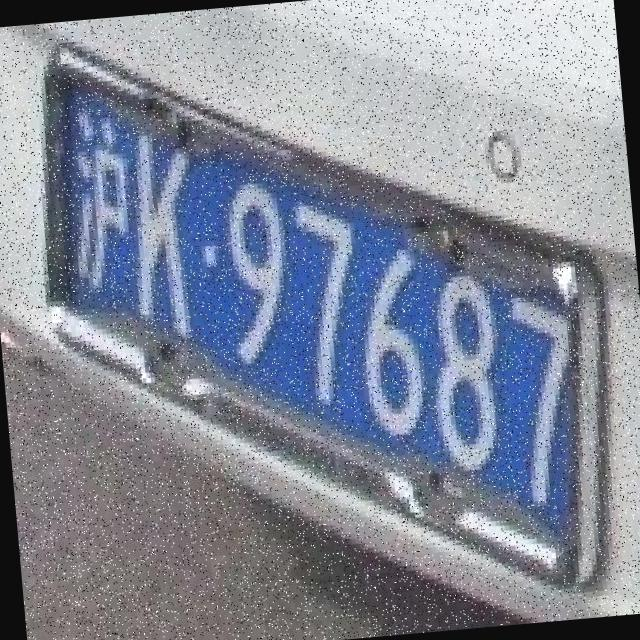license_plate: (20, 0, 632, 640)
